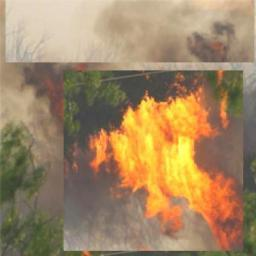Heavy smoke: (13, 3, 254, 61)
Large fire: (80, 81, 241, 243)
Low smoke: (4, 63, 65, 223)
